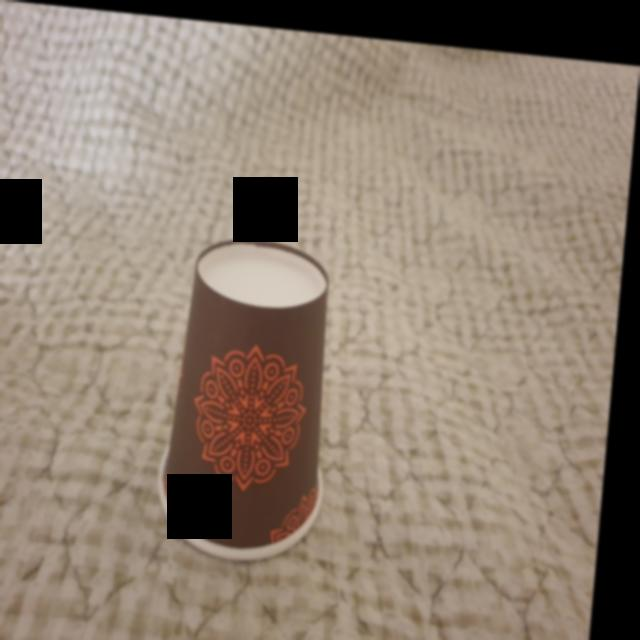cups: (152, 217, 361, 570)
